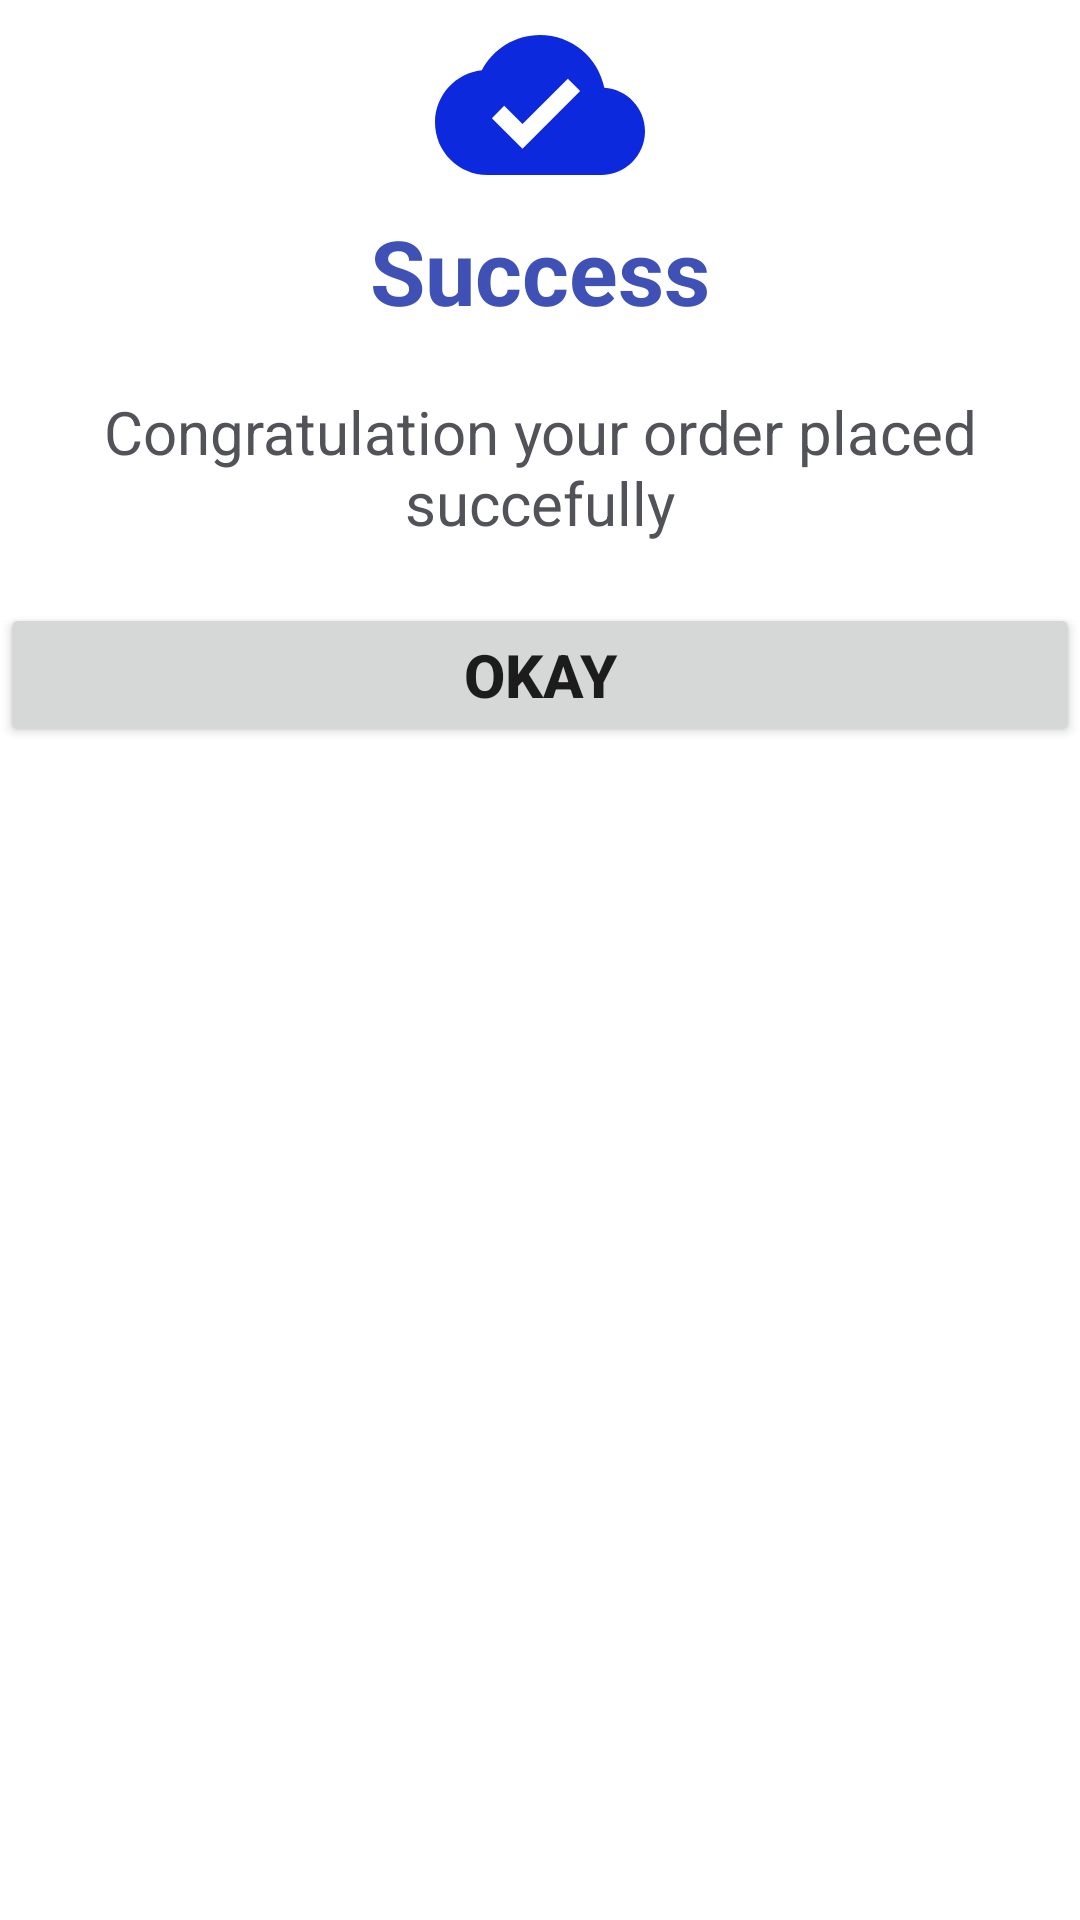

Icon click points for this 1080w x 1920h phone screenshot, format [x,y]:
cloud done: [540,105]
